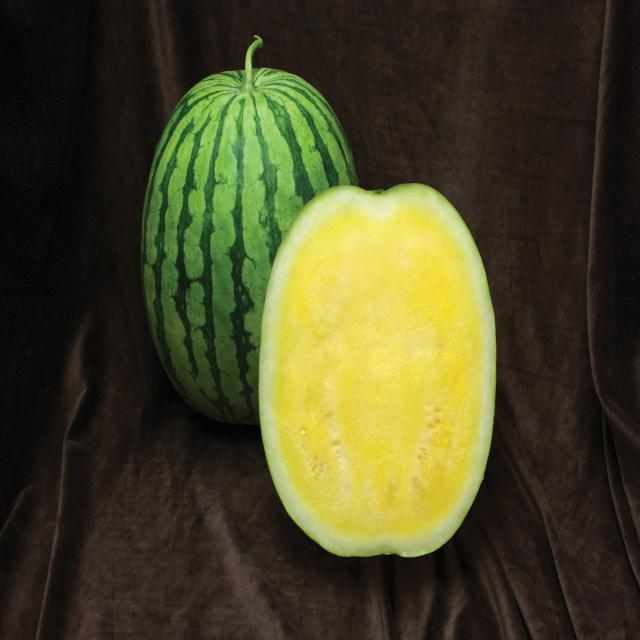Watermelon: (141, 36, 358, 424)
